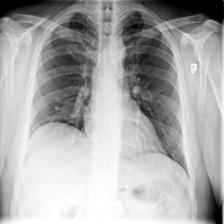normal: (24, 8, 191, 176)
